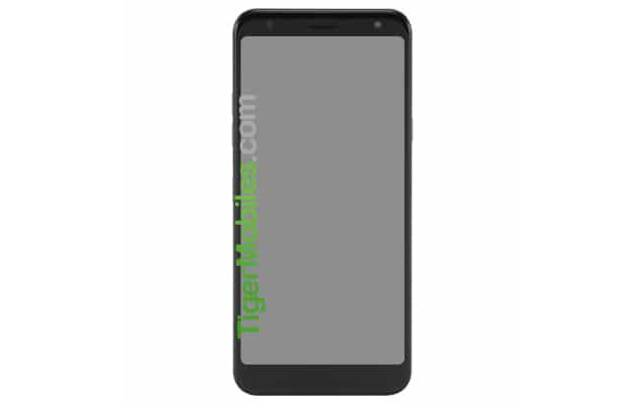Handphone: (228, 5, 417, 400)
